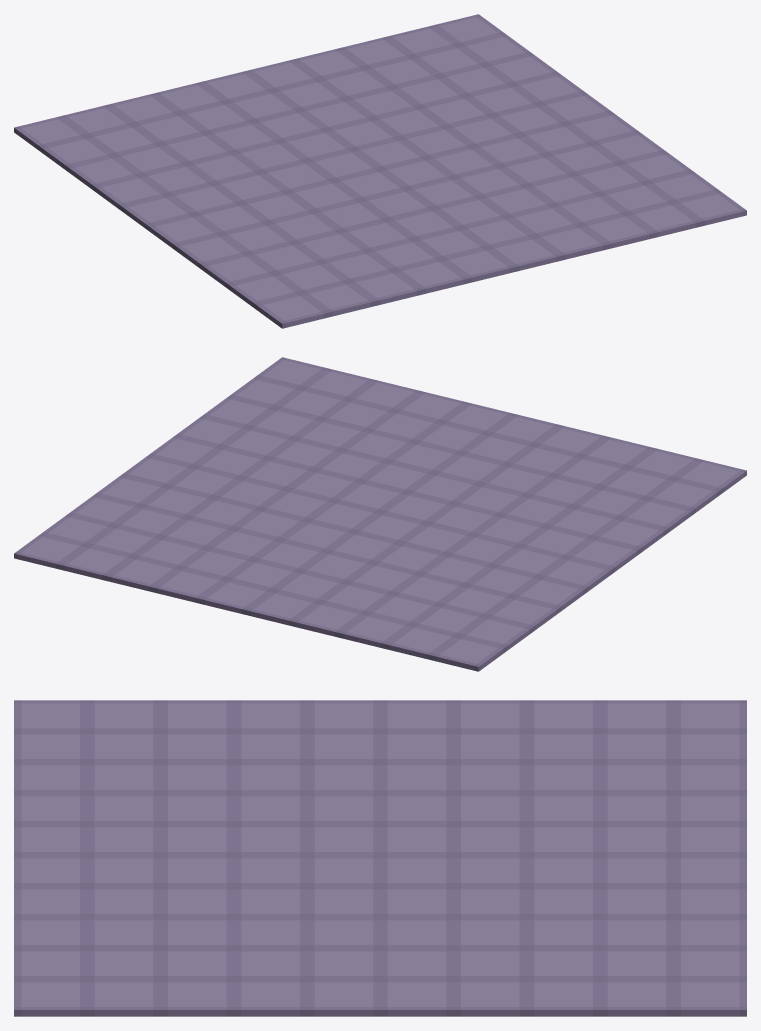
Rendered from room_Start1_Floor.obj.
3 renders of one model, top to bottom at view 1: azimuth 30°, elevation 25°; view 2: azimuth 150°, elevation 25°; view 3: azimuth 270°, elevation 25°, orthographic. The views are drawn at different scales.
Bounding box in the file's own units: 100 × 1 × 100.
Materials: 1 (1 with a texture image).
